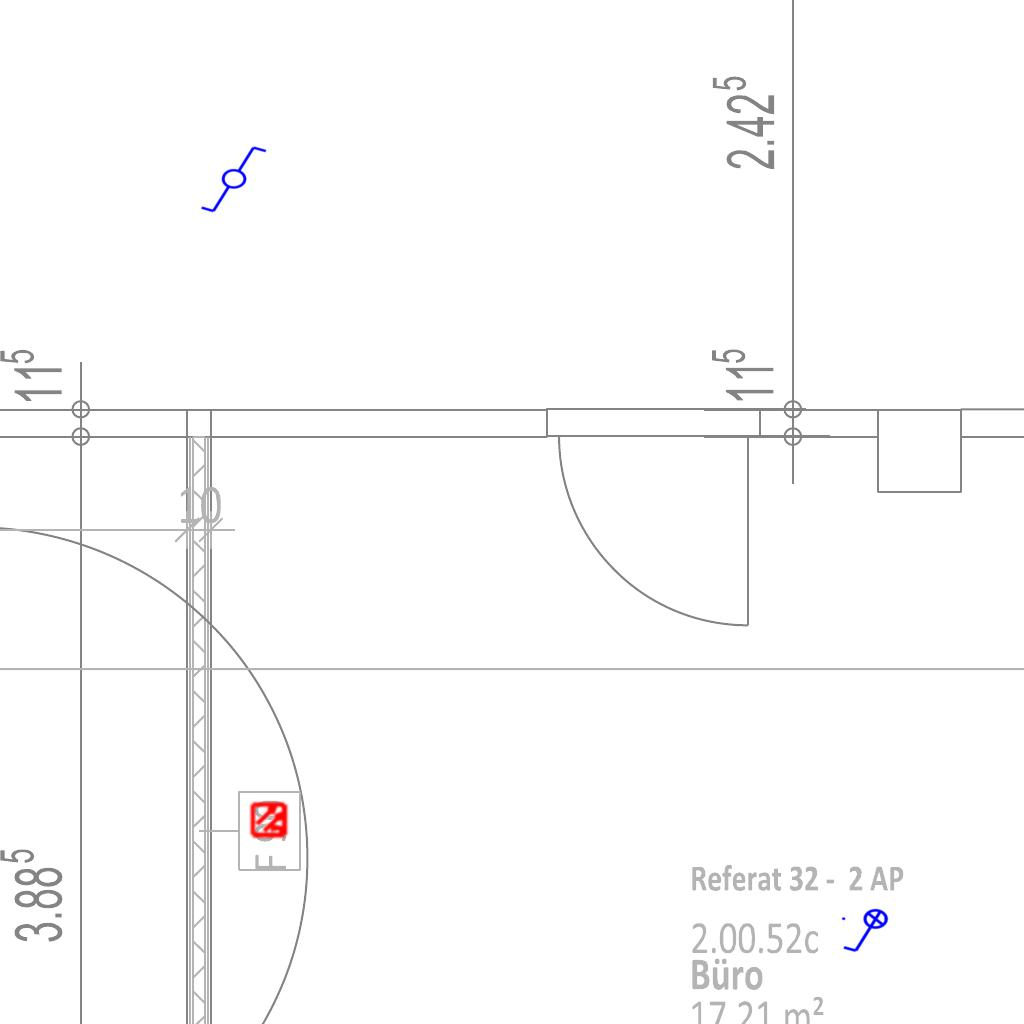Ausschalter_beleuchtet: (839, 908, 895, 956)
OT_Multisensormelder_(Kombination_RMO_WMD): (242, 792, 298, 848)
Wechselschalter: (199, 144, 277, 216)
